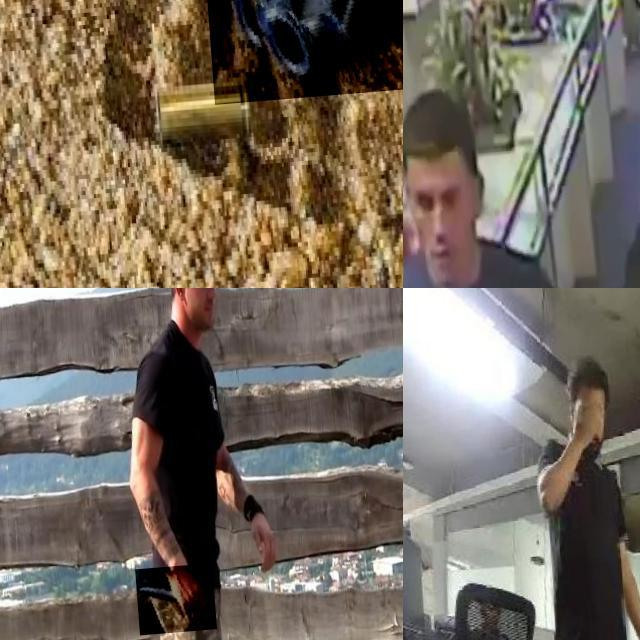-: (128, 568, 209, 638)
gun-knife-thesis - v11 Yolov5 augmented: (184, 0, 403, 202), (403, 130, 488, 256)
